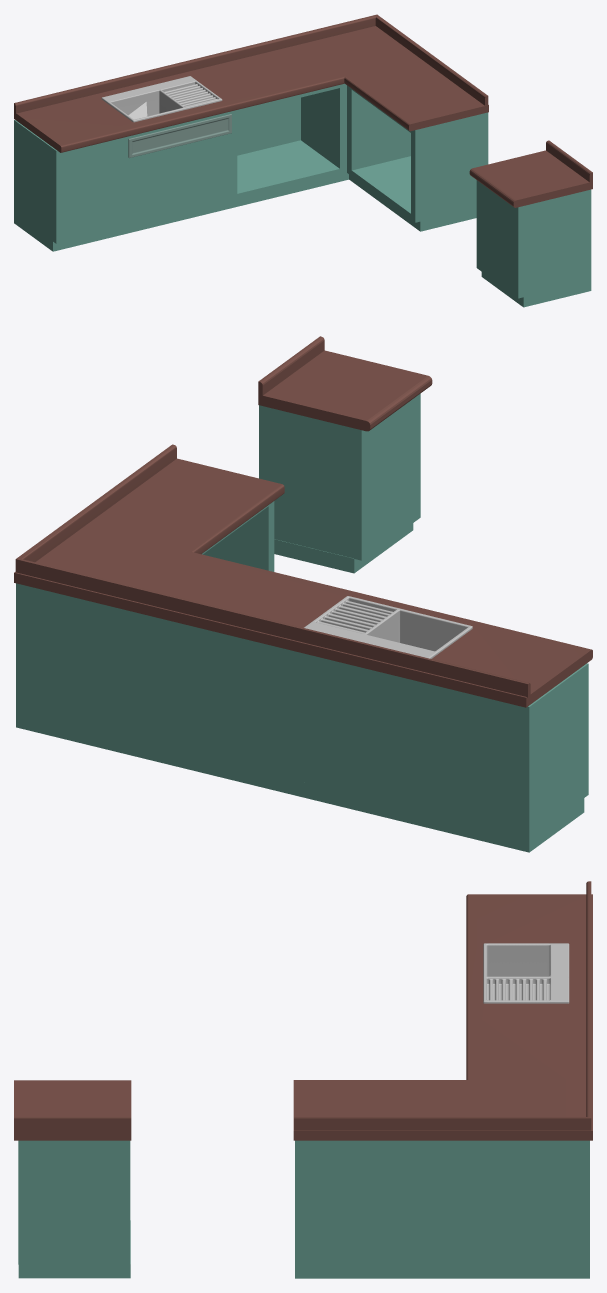
Rendered from CabinetSink_feb23.fbx.
3 views of the same model, one above another, from view 1: azimuth 30°, elevation 25°; view 2: azimuth 150°, elevation 25°; view 3: azimuth 270°, elevation 25° (orthographic). The views are drawn at different scales.
Visible parts, largest first — view 1: countertop6; view 2: countertop6; view 3: countertop6.
Boxes of the visible parts, x1,y1,x2,y2 form: countertop6: [14, 14, 592, 307]; countertop6: [14, 336, 592, 852]; countertop6: [14, 881, 592, 1278].
Bounding box in the file's own units: 3.17 × 0.9965 × 3.27.
